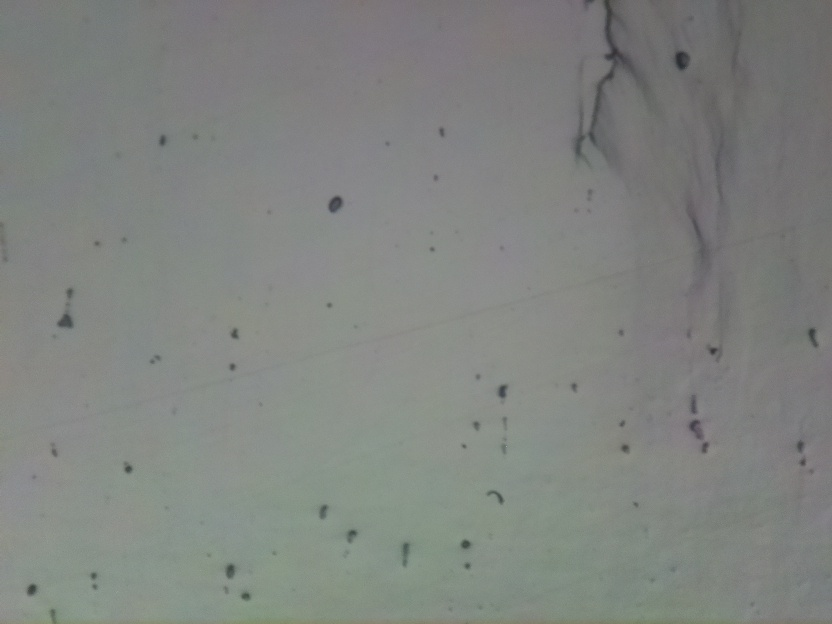crack: (564, 0, 627, 152)
